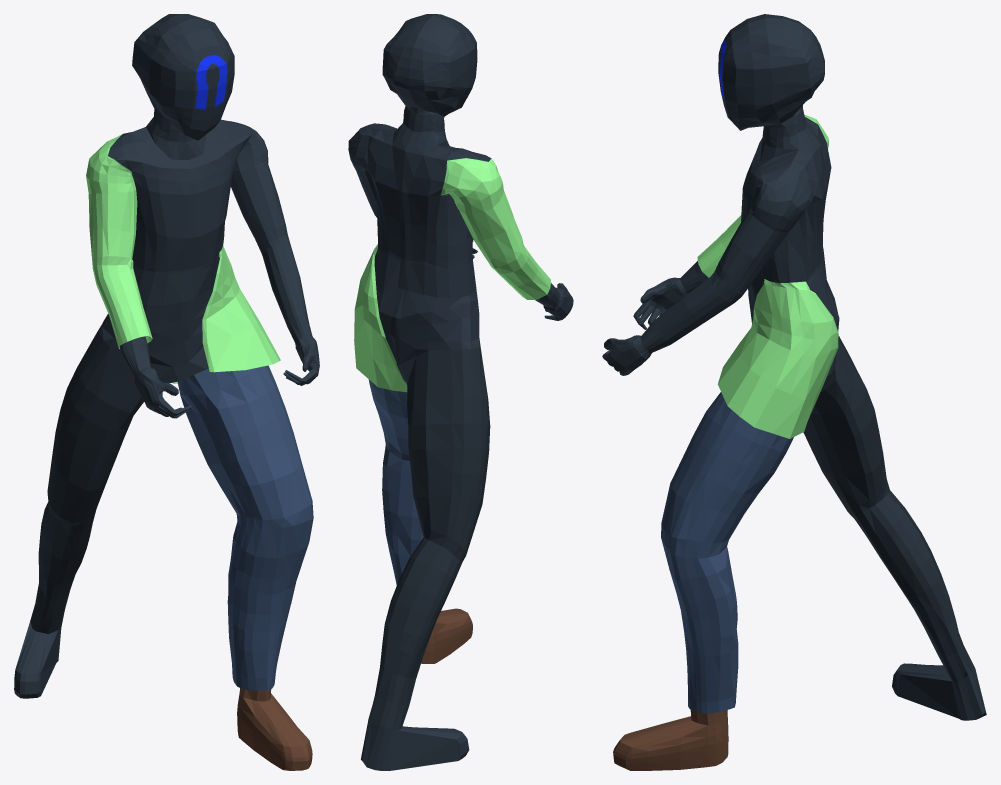
The model's file is Mar_Recover_000030.obj.
3 views of the same model, side by side, from view 1: azimuth 30°, elevation 25°; view 2: azimuth 150°, elevation 25°; view 3: azimuth 270°, elevation 25° (orthographic). The views are drawn at different scales.
Visible parts, largest first — view 1: Cube.000_Cube.001; view 2: Cube.000_Cube.001; view 3: Cube.000_Cube.001.
Part boxes in pixels (box(x1,y1,x2,y2)): Cube.000_Cube.001: box(14, 14, 319, 770); Cube.000_Cube.001: box(348, 14, 573, 770); Cube.000_Cube.001: box(602, 14, 986, 770).
Bounding box in the file's own units: 1.06 × 3.79 × 1.82.
